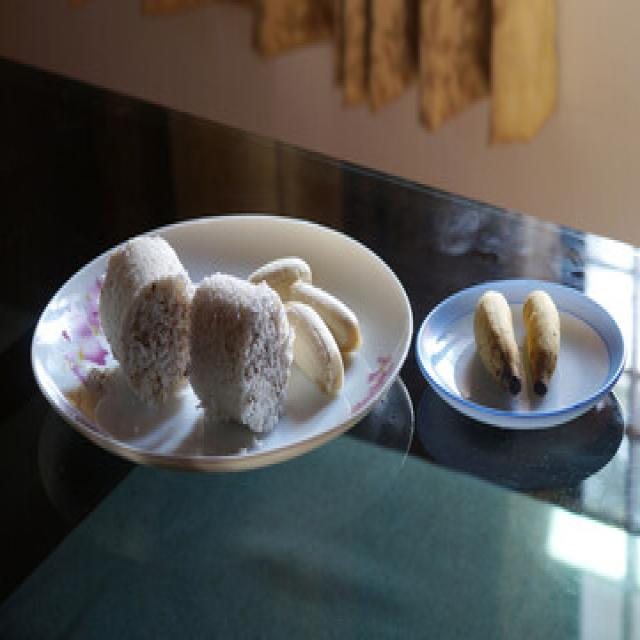BANANA: (243, 251, 367, 396), (470, 285, 562, 396)
PUTTU: (92, 233, 297, 438)
